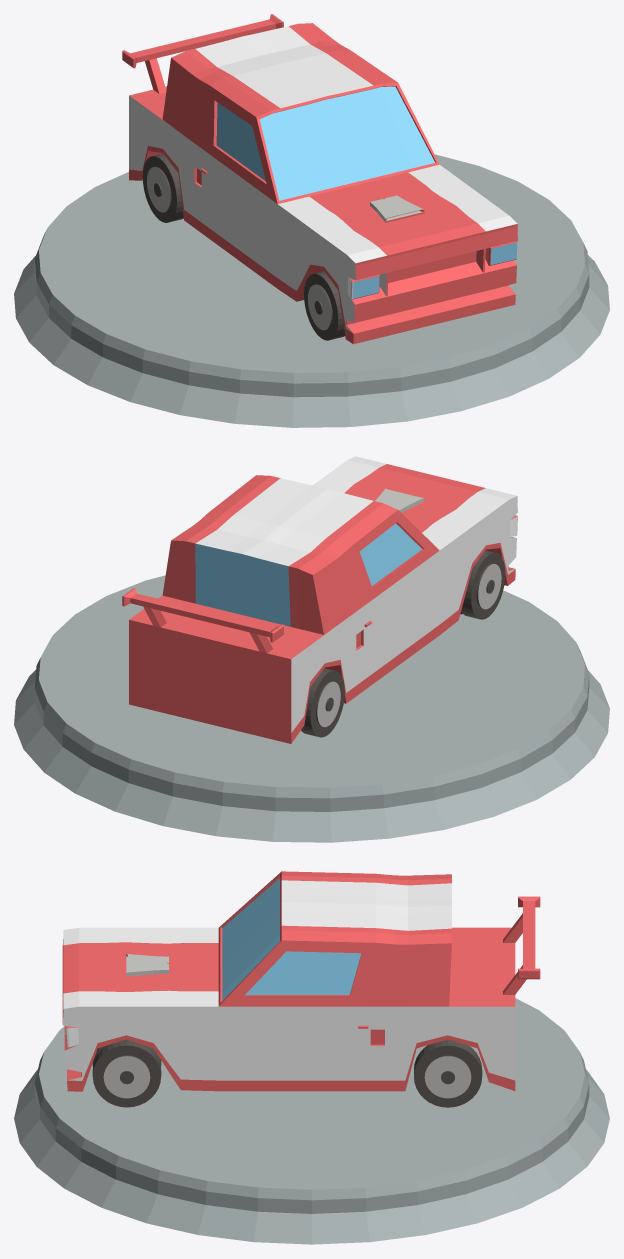
Rendered from car2.glb.
3 renders of one model, top to bottom at view 1: azimuth 30°, elevation 25°; view 2: azimuth 150°, elevation 25°; view 3: azimuth 270°, elevation 25°, orthographic.
Parts seen in each view (by area): view 1: base, car_body, rear_wheels, front_wheels; view 2: base, car_body, front_wheels, rear_wheels; view 3: base, car_body, front_wheels, rear_wheels.
Boxes of the visible parts, x1=… form: base: x1=14, y1=154, x2=609, y2=427; car_body: x1=122, y1=14, x2=517, y2=344; rear_wheels: x1=142, y1=153, x2=183, y2=222; front_wheels: x1=304, y1=271, x2=345, y2=340; base: x1=14, y1=575, x2=609, y2=842; car_body: x1=122, y1=456, x2=517, y2=743; front_wheels: x1=460, y1=550, x2=505, y2=619; rear_wheels: x1=301, y1=668, x2=344, y2=737; base: x1=14, y1=998, x2=609, y2=1244; car_body: x1=62, y1=871, x2=540, y2=1091; front_wheels: x1=92, y1=1039, x2=161, y2=1107; rear_wheels: x1=414, y1=1039, x2=482, y2=1107.
Size of what is drawn, in the model's own units: 4 by 1.6 by 4.
